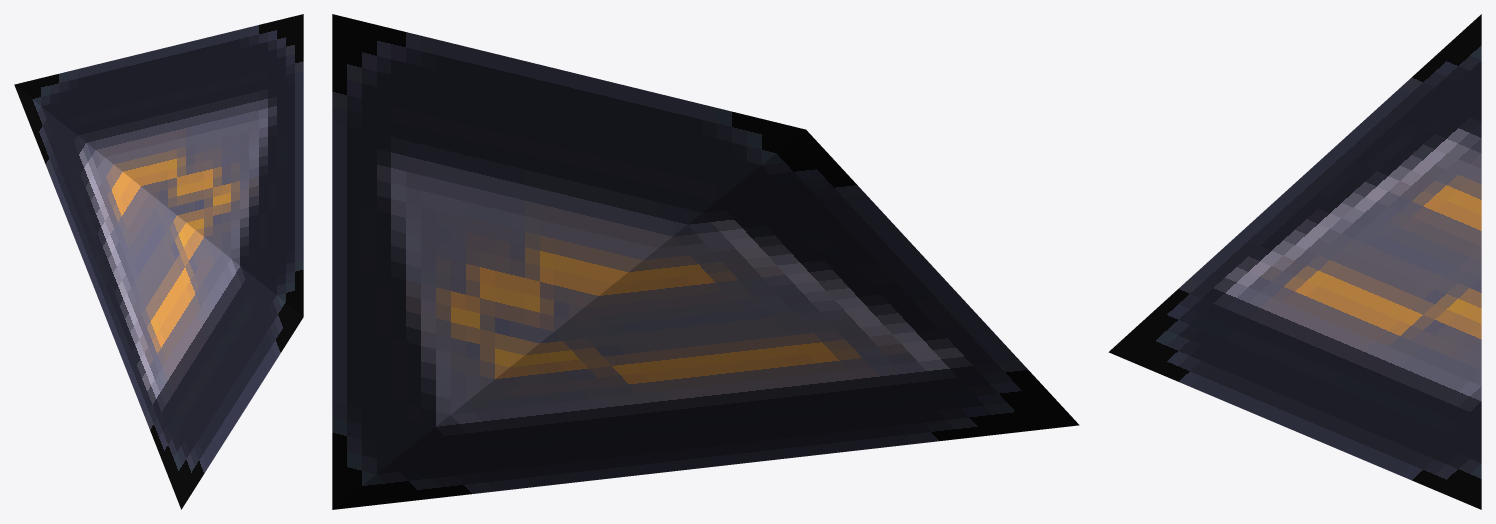
File: textured-png.glb
3 renders of one model, left to right at view 1: azimuth 30°, elevation 25°; view 2: azimuth 150°, elevation 25°; view 3: azimuth 270°, elevation 25°, orthographic. The views are drawn at different scales.
Bounding box in the file's own units: 2 × 2 × 2.
1 material, 1 textured.
